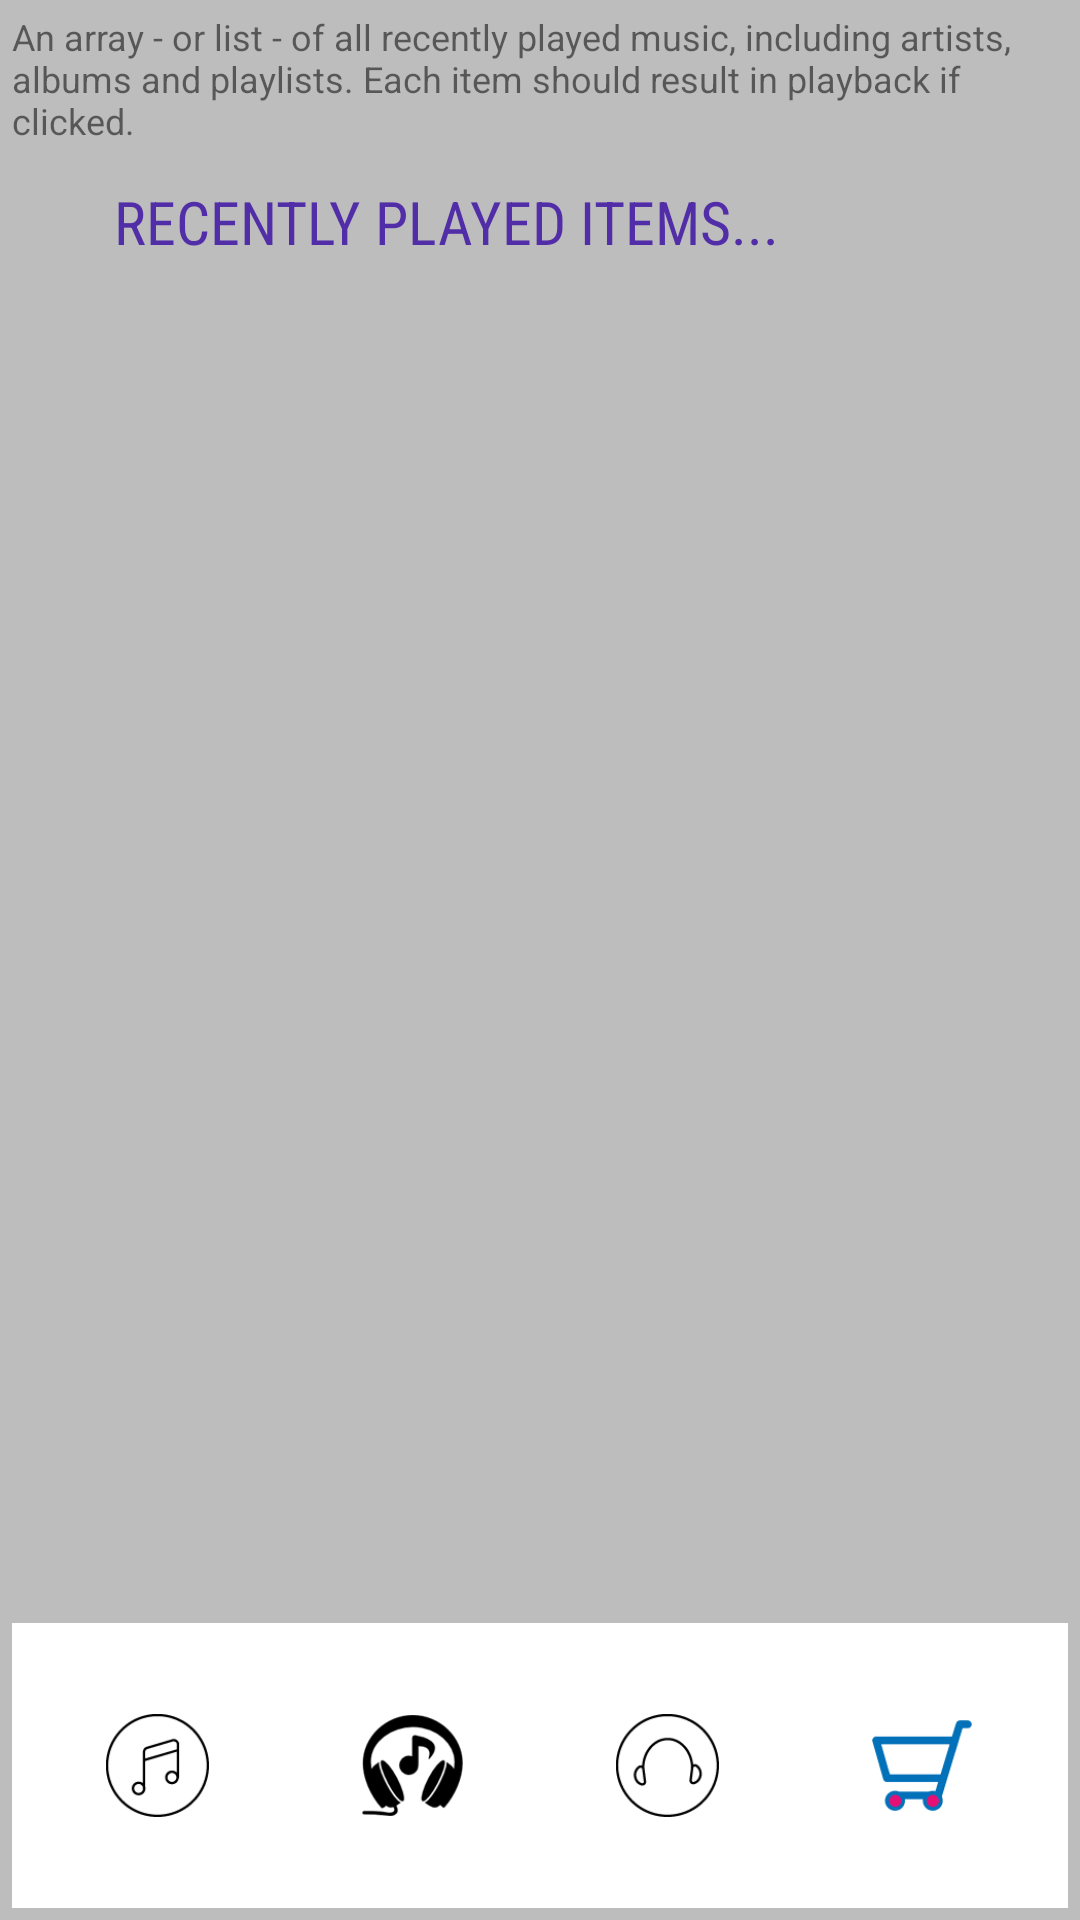

Screen size 1080px×1920px. Icon name, then its center in pixels as (x=x, y=y):
trolley: (x=922, y=1765)
